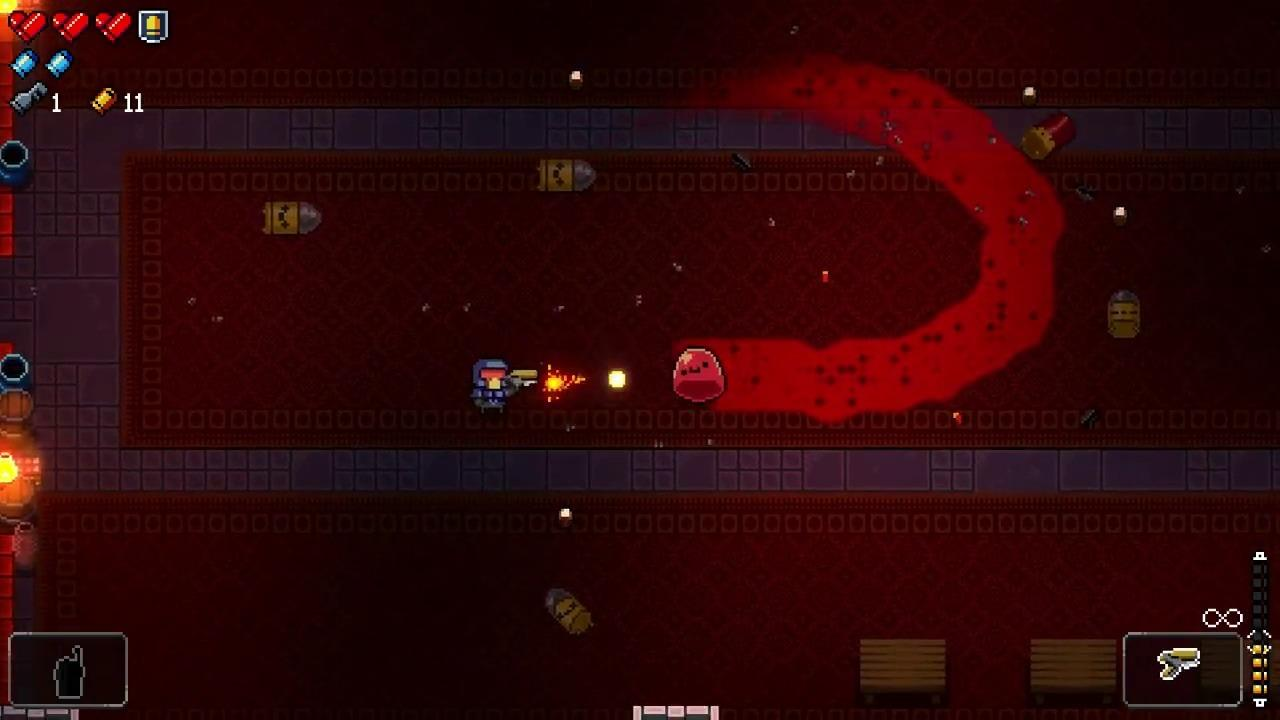blobulon_l: (672, 346, 728, 404)
dead_bullet_kin: (534, 157, 597, 191), (549, 590, 594, 637), (262, 202, 321, 236), (1107, 291, 1142, 339)
player: (470, 358, 510, 415)
table: (1030, 636, 1117, 706), (859, 636, 947, 704)
